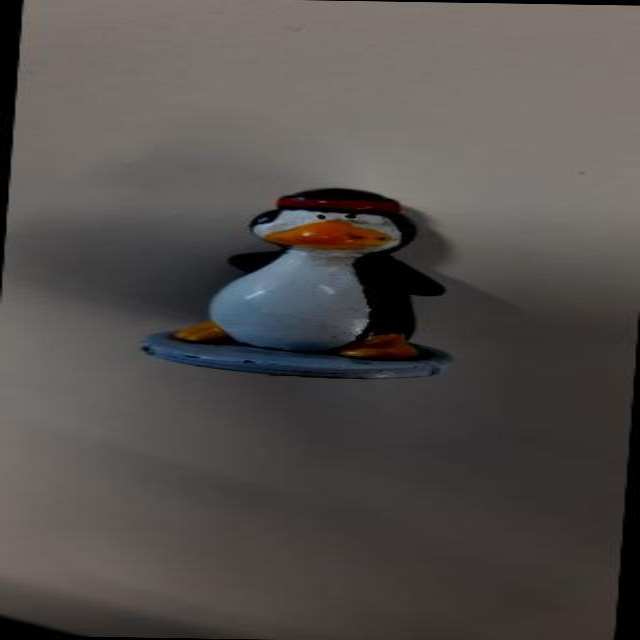Penguin: (135, 179, 475, 385)
